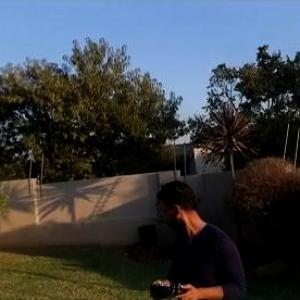follow: (146, 173, 254, 299)
